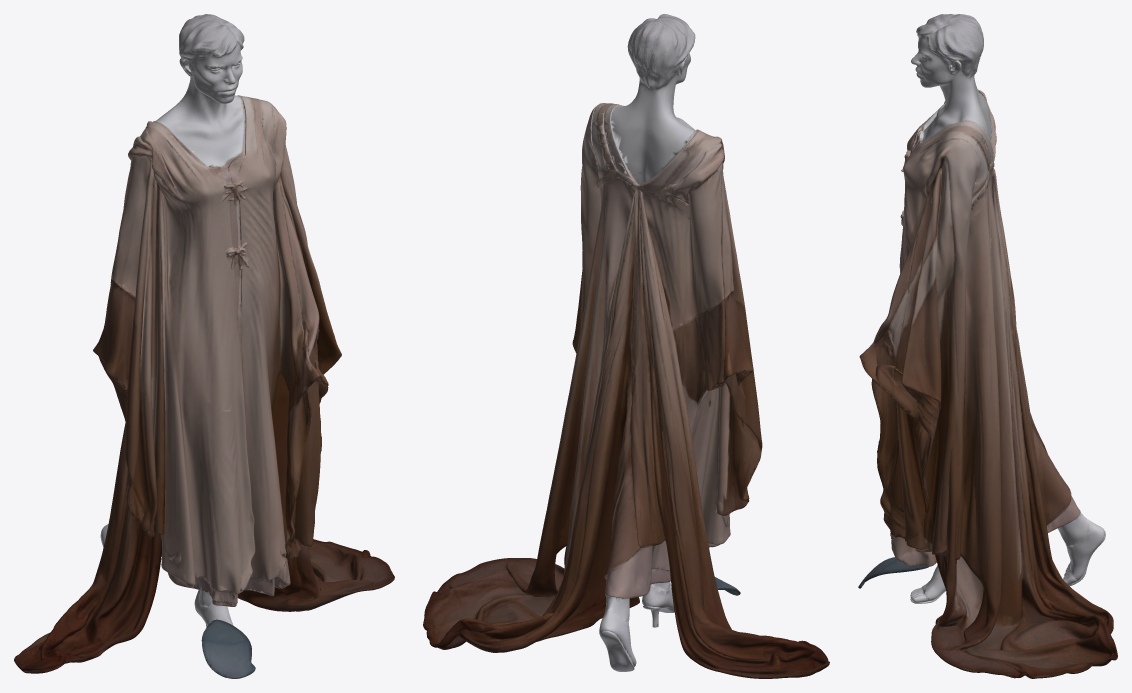
3 renders of one model, left to right at view 1: azimuth 30°, elevation 25°; view 2: azimuth 150°, elevation 25°; view 3: azimuth 270°, elevation 25°, orthographic. The views are drawn at different scales.
Visible parts, largest first — view 1: tripo_node_9e9beae5-d09f-4a93-afe8-5b736dcc48a2; view 2: tripo_node_9e9beae5-d09f-4a93-afe8-5b736dcc48a2; view 3: tripo_node_9e9beae5-d09f-4a93-afe8-5b736dcc48a2.
Part boxes in pixels (box(x1,y1,x2,y2)): tripo_node_9e9beae5-d09f-4a93-afe8-5b736dcc48a2: box(14, 14, 394, 678); tripo_node_9e9beae5-d09f-4a93-afe8-5b736dcc48a2: box(423, 14, 829, 678); tripo_node_9e9beae5-d09f-4a93-afe8-5b736dcc48a2: box(858, 14, 1117, 678).
Size of the model in its own units: 0.6265 by 0.9813 by 0.3977.
1 material, 1 textured.
